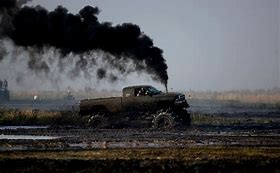smoke: (1, 1, 169, 84)
